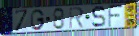7: (14, 8, 29, 33)
8: (52, 7, 66, 31)
F: (107, 4, 124, 28)
G: (30, 9, 46, 32)
R: (69, 7, 85, 30)
S: (90, 5, 106, 29)
